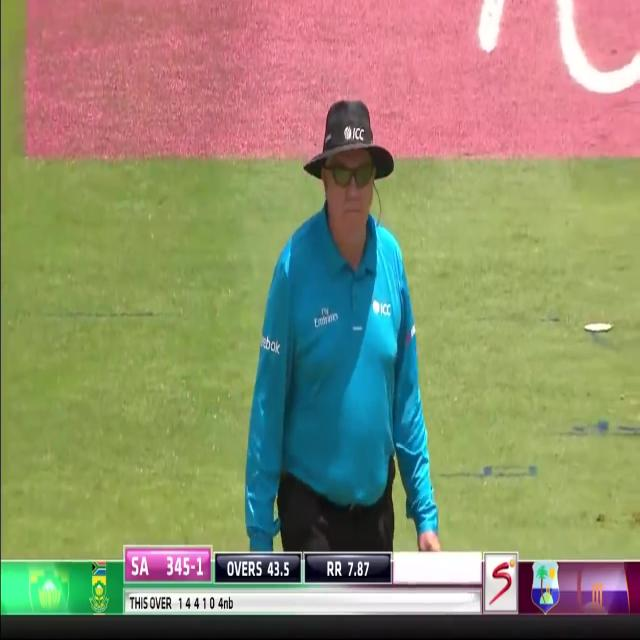Umpire: (240, 98, 444, 550)
